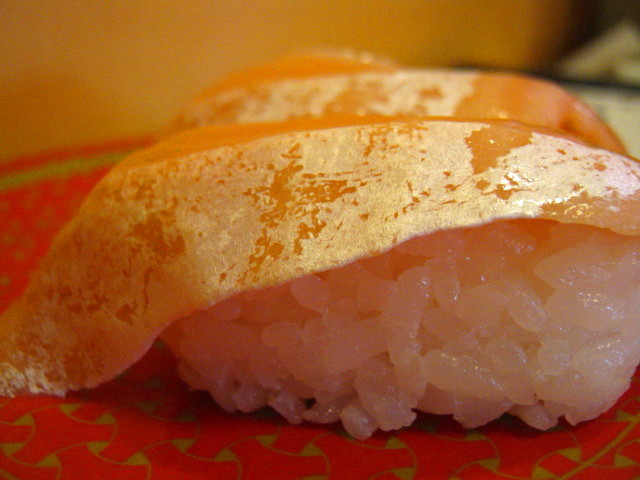salmon: (11, 114, 640, 444)
